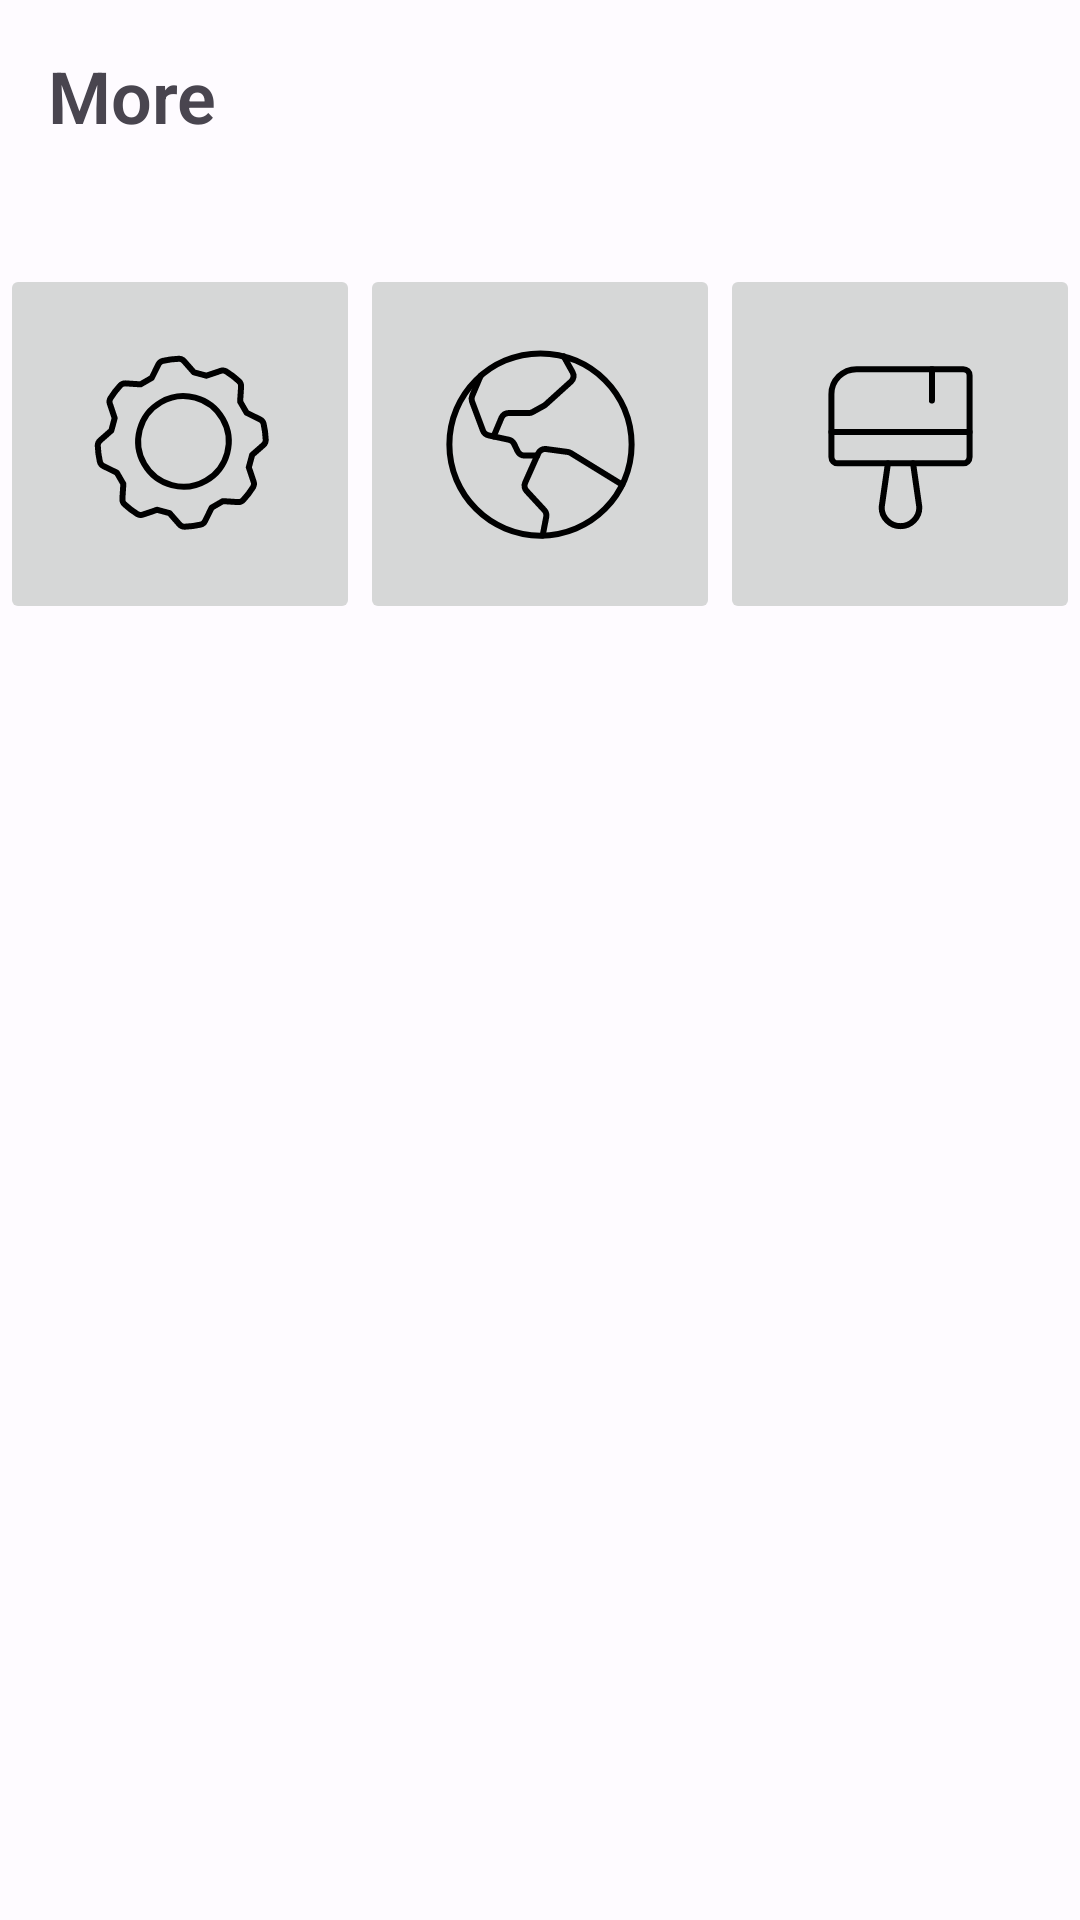

Icon click points for this 1080×1920 phone screenshot, format [x,y]:
gear: [180,444]
locale: [540,444]
oc paint brush broad: [900,444]
